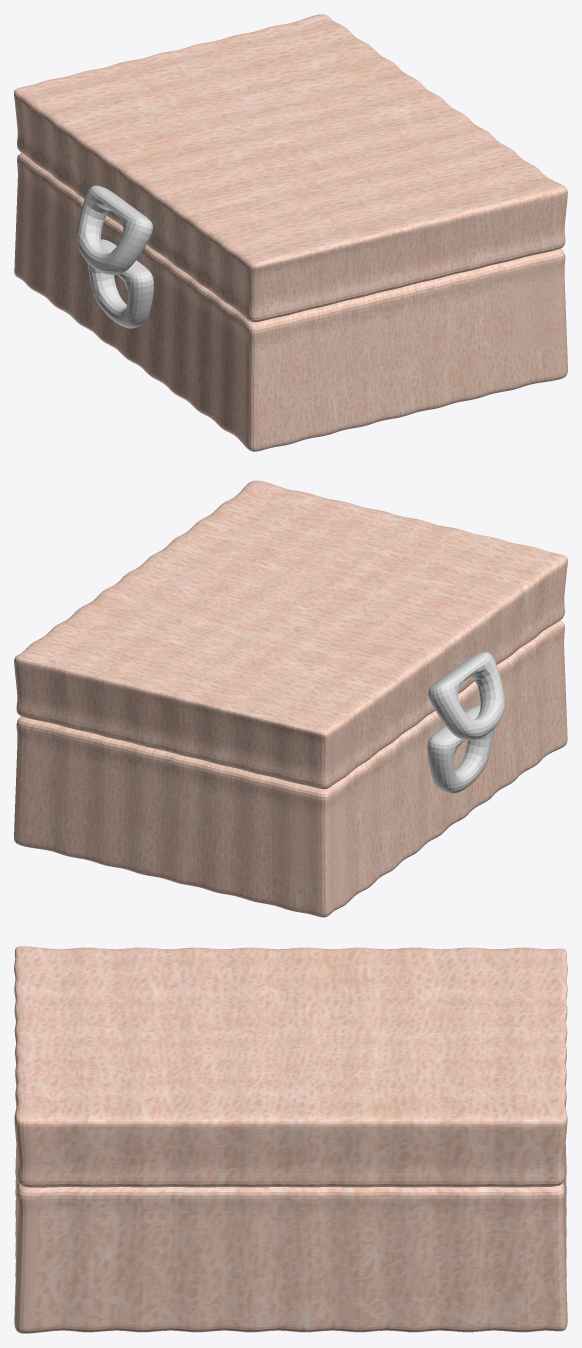
Rendered from valise_texture.fbx.
3 views of the same model, one above another, from view 1: azimuth 30°, elevation 25°; view 2: azimuth 150°, elevation 25°; view 3: azimuth 270°, elevation 25° (orthographic). The views are drawn at different scales.
Parts seen in each view (by area): view 1: valise; view 2: valise; view 3: valise.
Part boxes in pixels (x1,y1,x2,y2): valise: (14, 14, 567, 451); valise: (14, 480, 567, 917); valise: (14, 946, 567, 1333).
Bounding box in the file's own units: 62.35 × 31.73 × 73.22.
